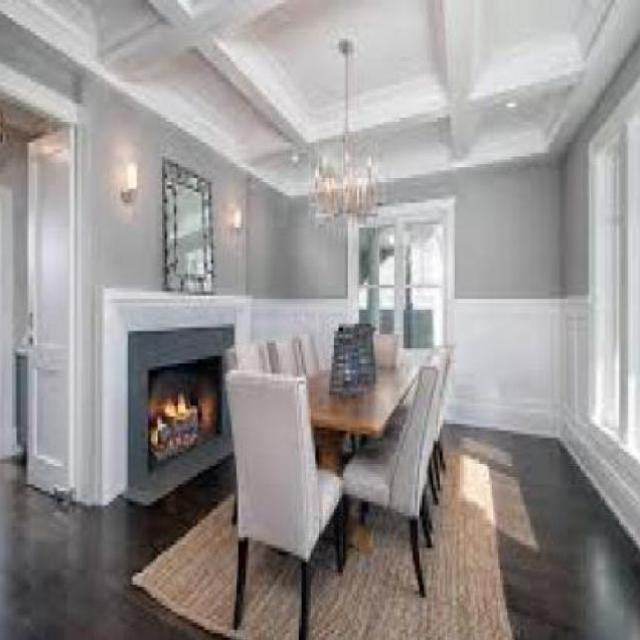smoke: (144, 387, 206, 457)
